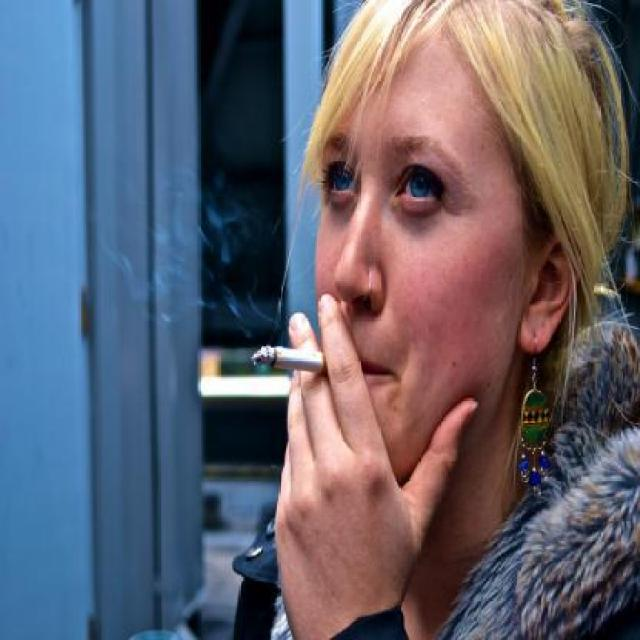cigarette: (240, 332, 355, 398)
